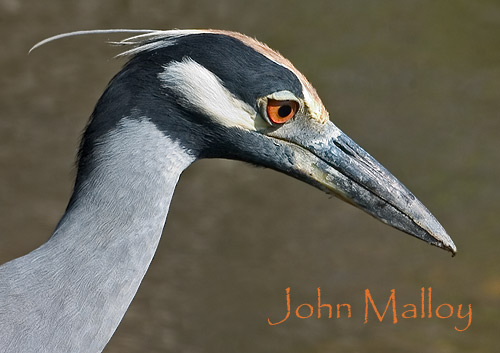heron: (9, 20, 459, 286)
